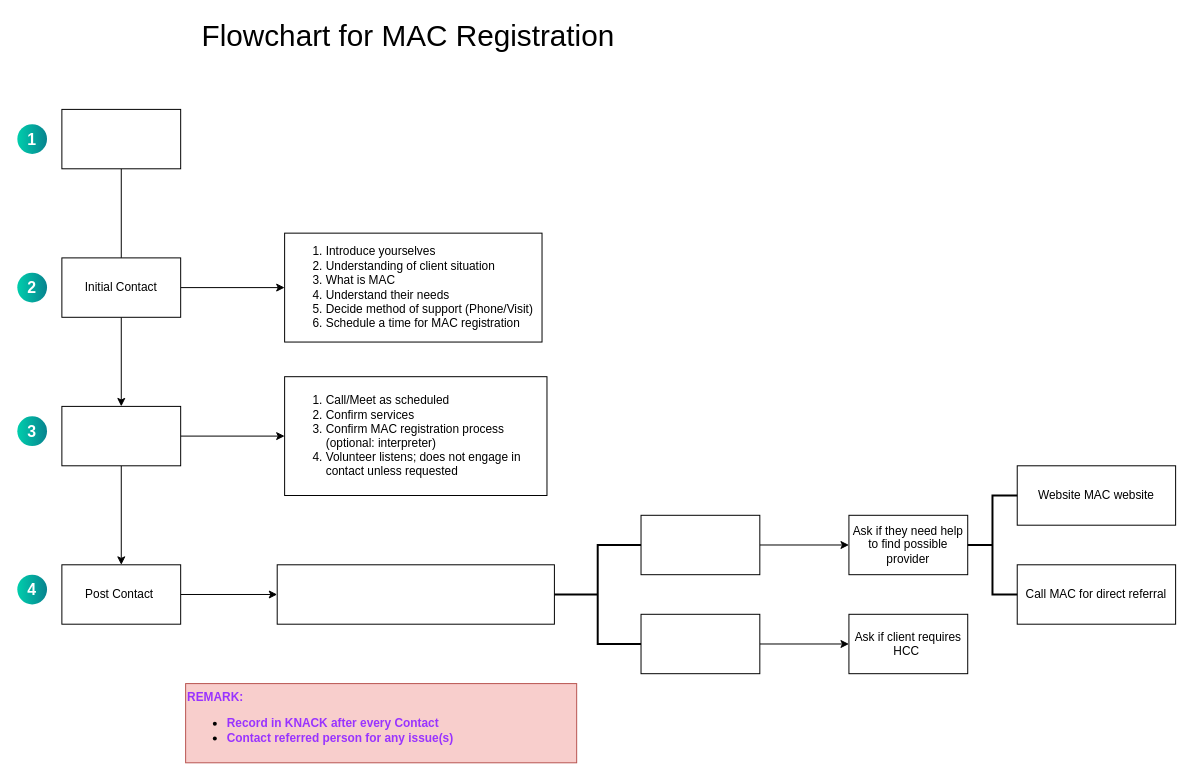
Image size: 1193x780. Some labels were removed from this diagram. Each missing label, with the centre of its shape:
"CHSP" belongs at point (700, 544).
"MAC Contact" belongs at point (121, 435).
"Pending assessment Schedule follow-up until client receives outcome" belongs at point (415, 594).
"Referal" belongs at point (121, 138).
"SAH" belongs at point (700, 643).
